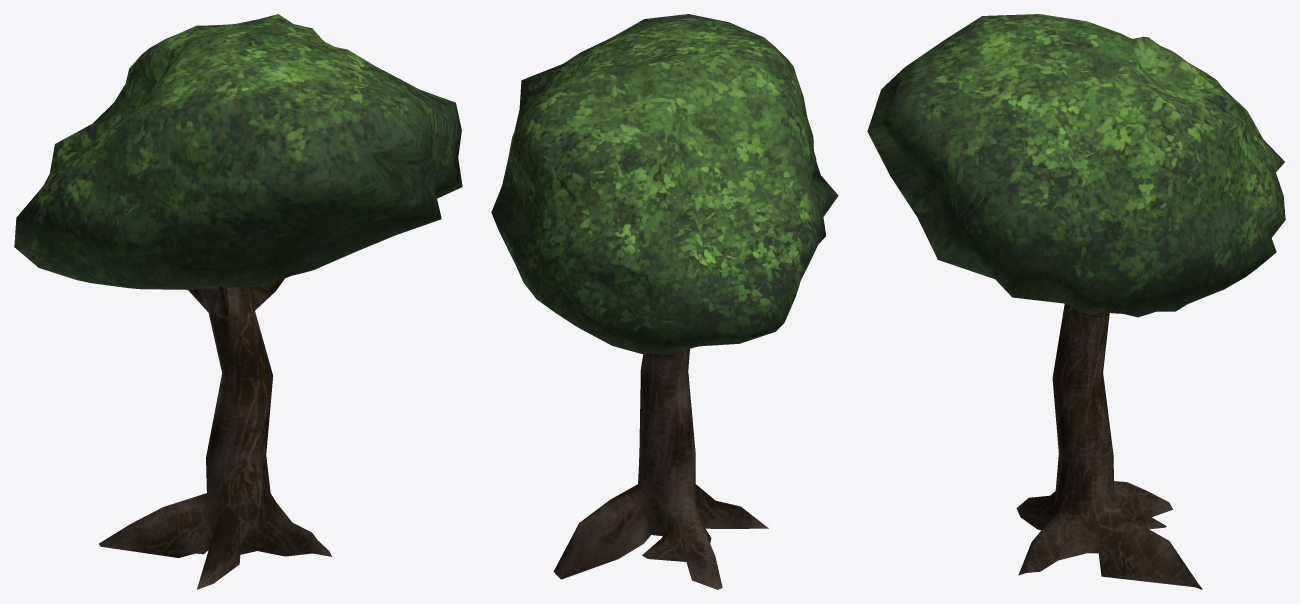
File: TreeCombined (1).fbx
3 views of the same model, side by side, from view 1: azimuth 30°, elevation 25°; view 2: azimuth 150°, elevation 25°; view 3: azimuth 270°, elevation 25° (orthographic). The views are drawn at different scales.
Parts seen in each view (by area): view 1: Tree2; view 2: Tree2; view 3: Tree2.
Part boxes in pixels (<box>): Tree2: <box>14,14,462,589</box>; Tree2: <box>491,14,838,589</box>; Tree2: <box>867,14,1285,589</box>.
Bounding box in the file's own units: 892 × 1234 × 889.
2 materials, 2 textured.
